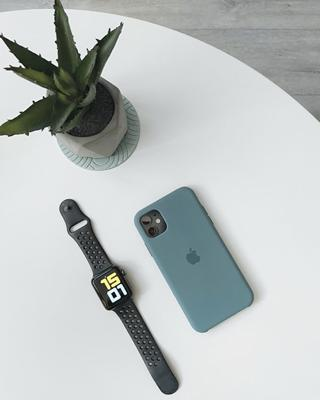cell-phone: (129, 178, 261, 349), (131, 181, 258, 337), (257, 331, 258, 351)
